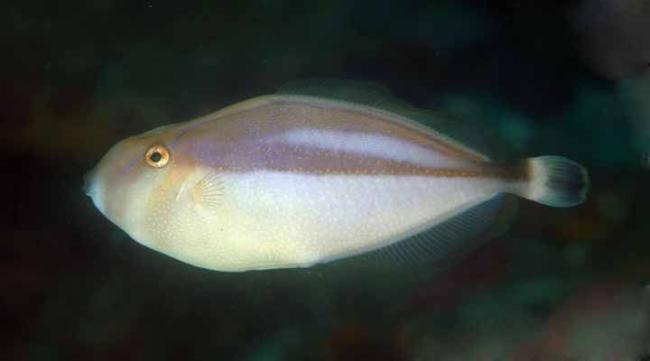fish: (82, 92, 591, 273)
